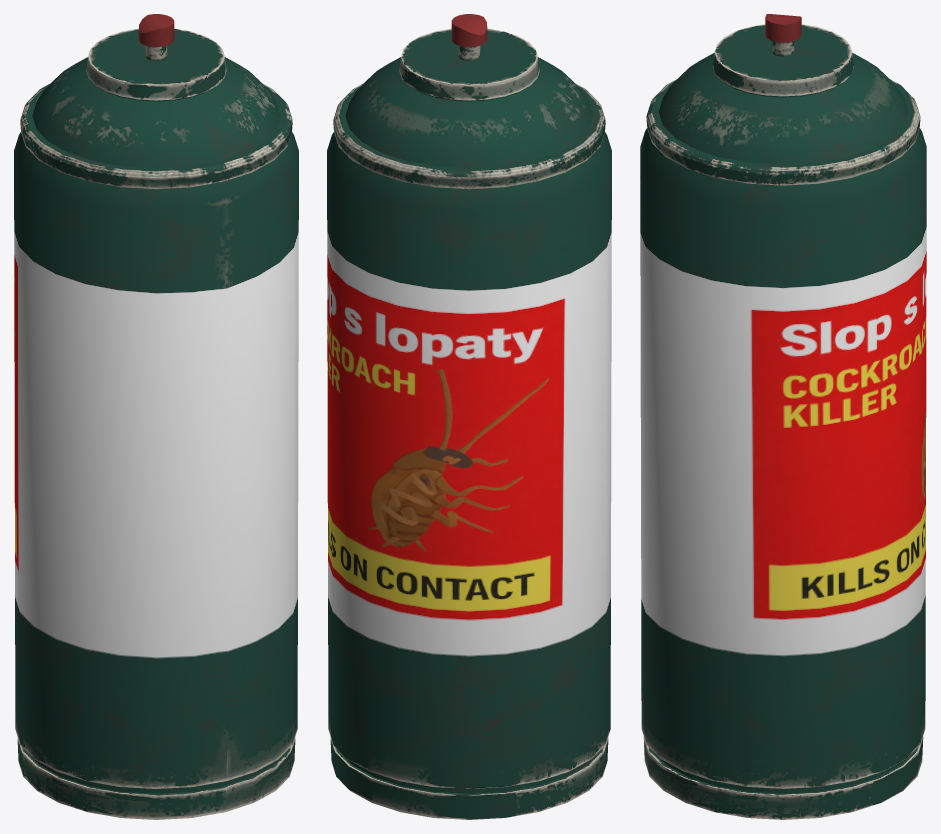
Rendered from dihlofoz.glb.
The picture shows the model from 3 angles, left to right: view 1: azimuth 30°, elevation 25°; view 2: azimuth 150°, elevation 25°; view 3: azimuth 270°, elevation 25°; orthographic projection.
Parts seen in each view (by area): view 1: paper_spray; view 2: paper_spray; view 3: paper_spray.
Boxes of the visible parts, left/top/right/bottom form: paper_spray: left=14, top=14, right=298, bottom=819; paper_spray: left=327, top=14, right=611, bottom=819; paper_spray: left=640, top=14, right=926, bottom=819.
Bounding box in the file's own units: 0.093 × 0.2666 × 0.093.
1 material, 1 textured.
